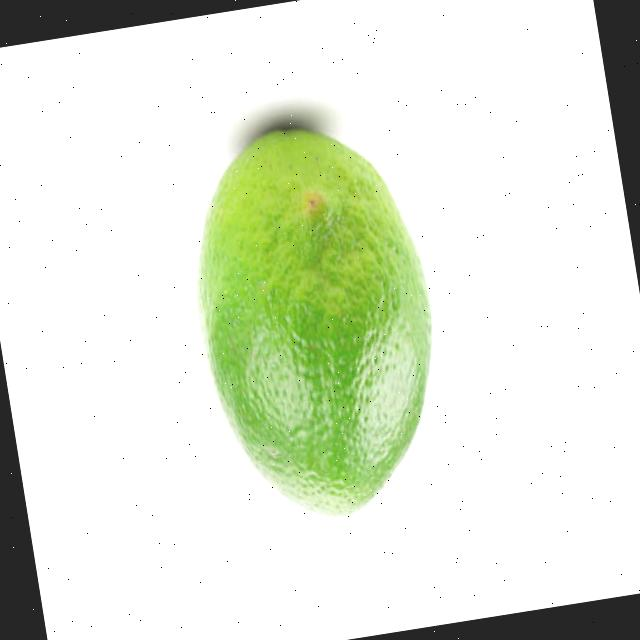Lemon: (169, 105, 463, 536)
